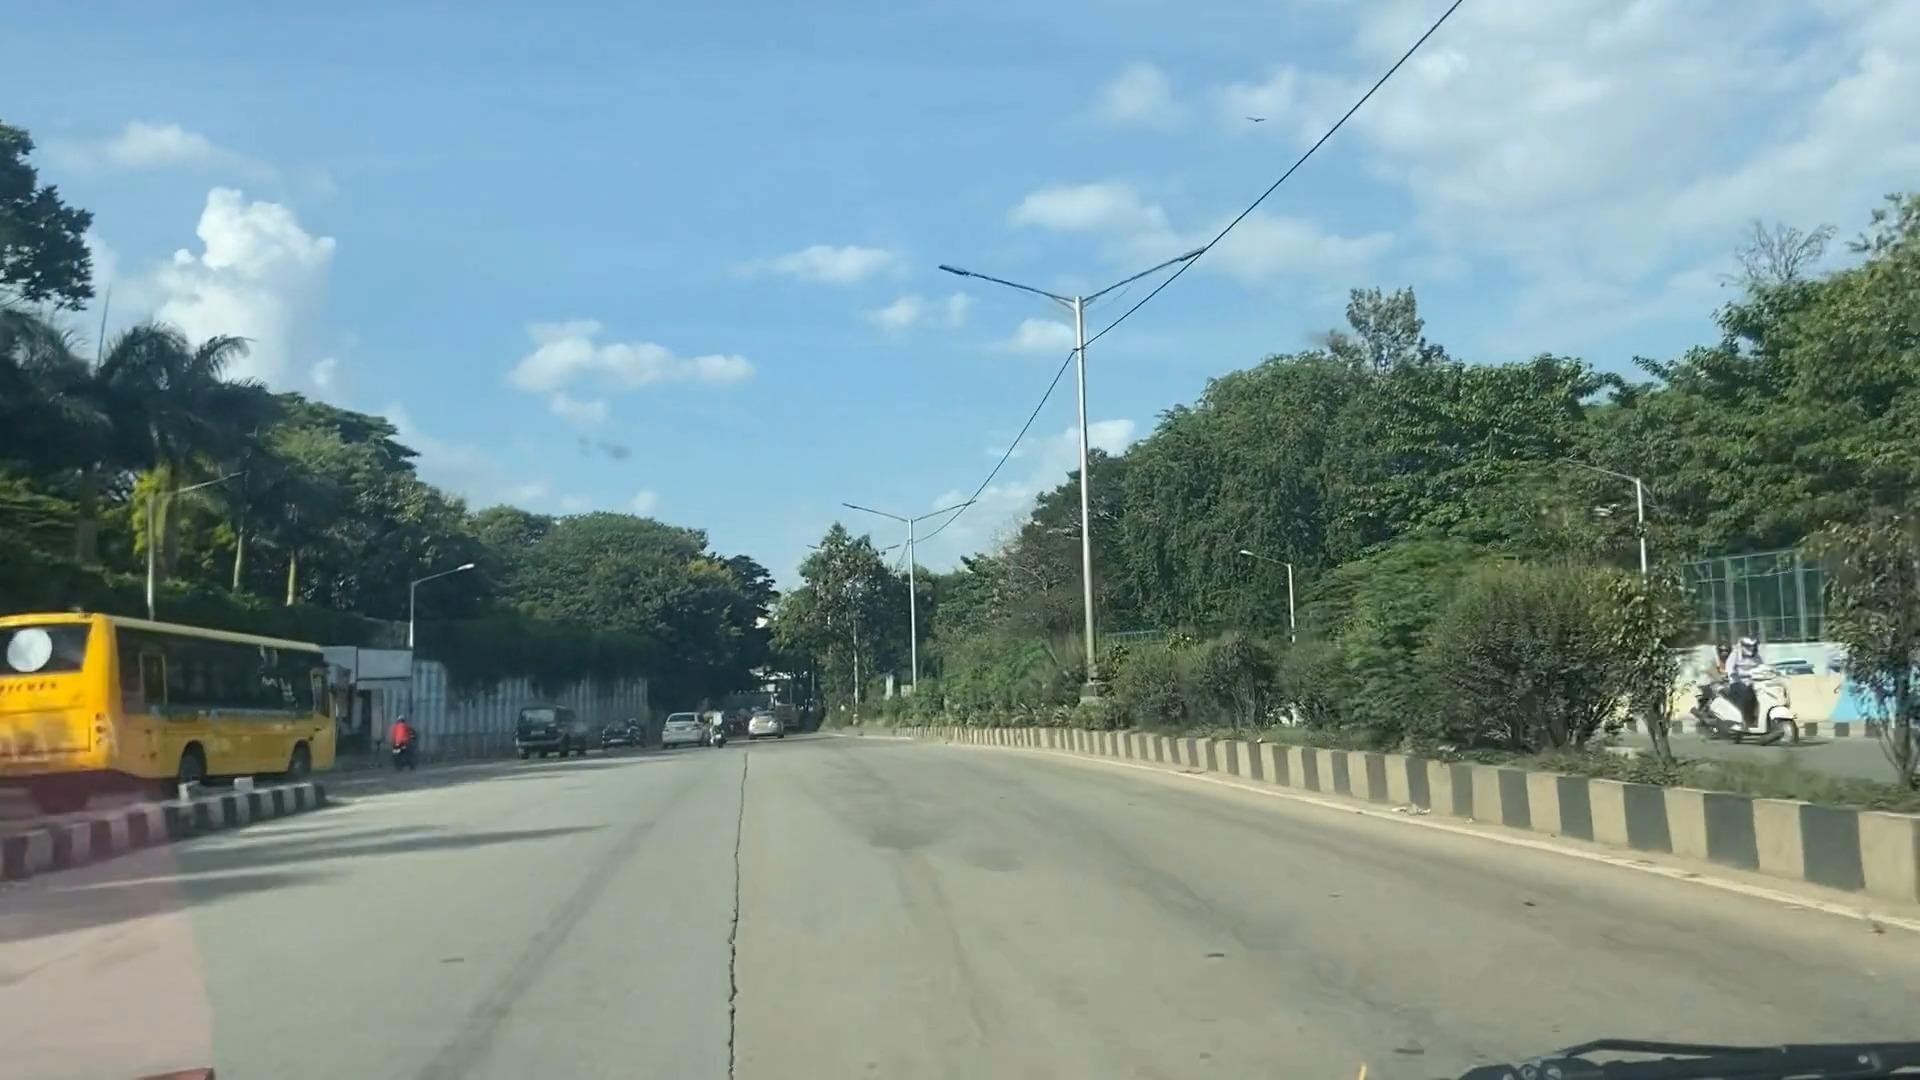RoadDamages: (708, 746, 769, 1080)
